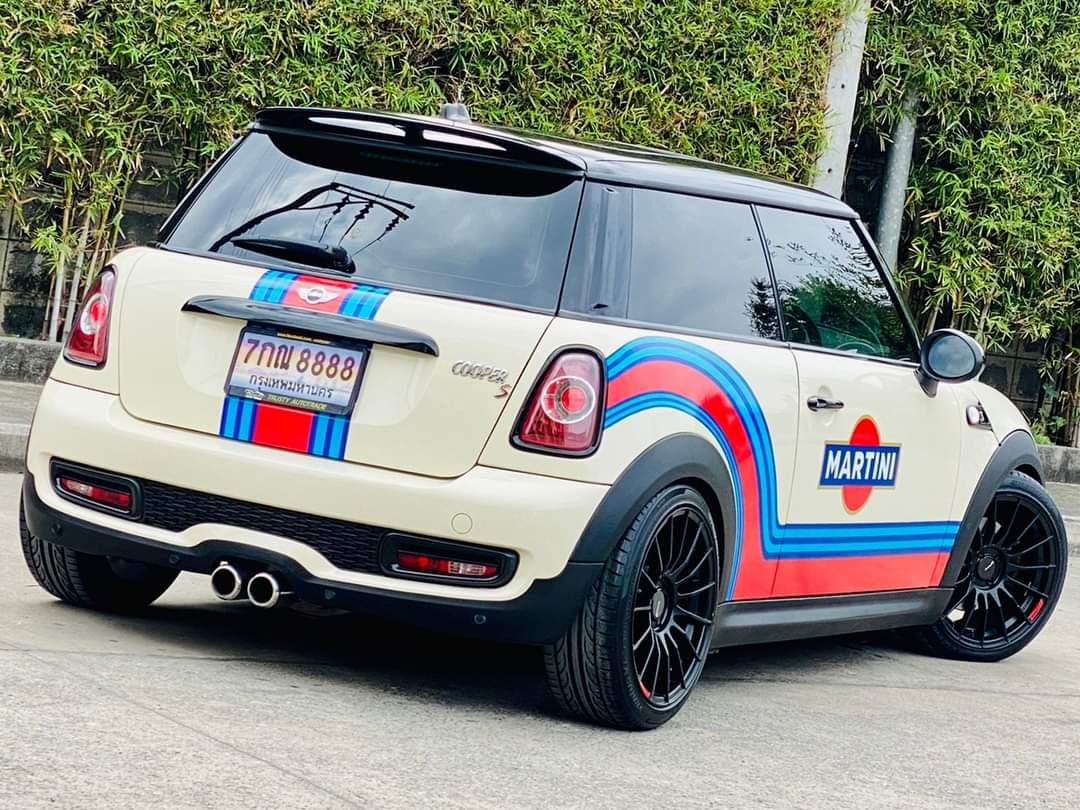license-plate: (224, 321, 368, 419)
